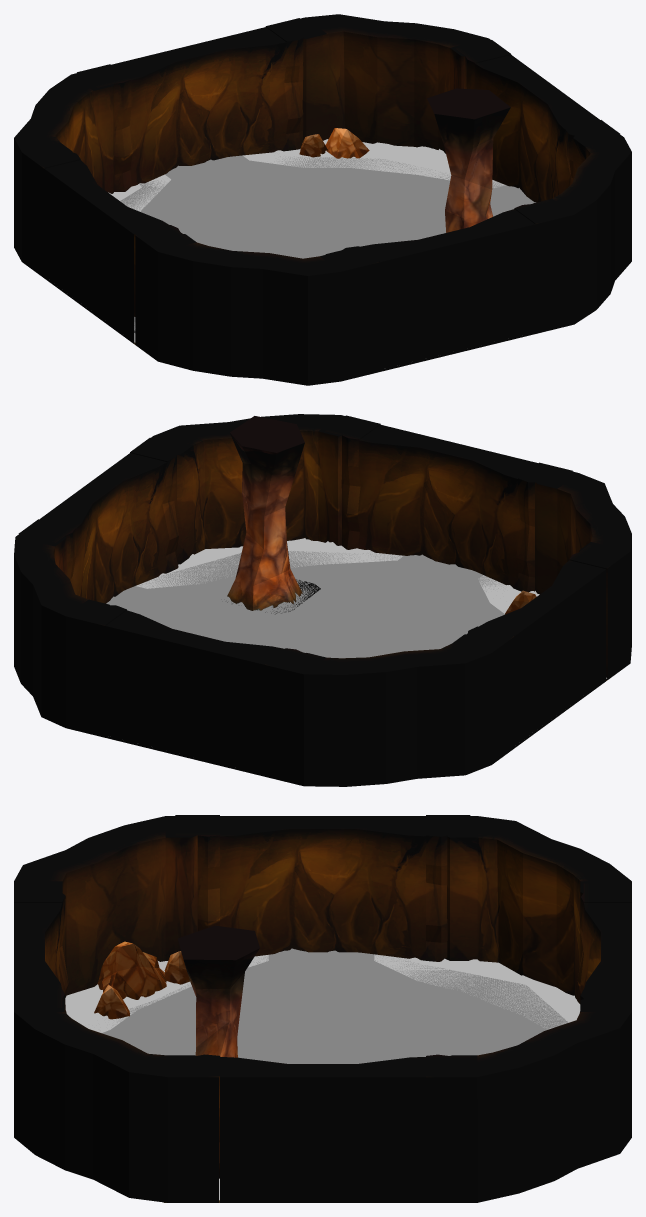
The model's file is Dungeon_062_StartRoom_001_009.fbx.
3 views of the same model, one above another, from view 1: azimuth 30°, elevation 25°; view 2: azimuth 150°, elevation 25°; view 3: azimuth 270°, elevation 25° (orthographic). The views are drawn at different scales.
Visible parts, largest first — view 1: Dun_062_StartRoom_001_wall, Dun_062_Door_002 (×4), Dun_062_StartRoom_002_Nav, Dungeon_062_Object_04_Pillar, Dun_062_StartRoom_001_shadow, Dun_062_Object_100; view 2: Dun_062_Door_002 (×4), Dun_062_StartRoom_001_wall, Dun_062_StartRoom_002_Nav, Dungeon_062_Object_04_Pillar, Dun_062_StartRoom_001_shadow; view 3: Dun_062_StartRoom_001_wall, Dun_062_Door_002 (×4), Dun_062_StartRoom_002_Nav, Dun_062_StartRoom_001_shadow, Dungeon_062_Object_04_Pillar, Dun_062_Object_100.
Part boxes in pixels (box(x1,y1,x2,y2)): Dun_062_StartRoom_001_wall: box(14, 14, 631, 385); Dun_062_Door_002 (×4): box(25, 18, 619, 371); Dun_062_StartRoom_002_Nav: box(120, 155, 535, 329); Dungeon_062_Object_04_Pillar: box(427, 88, 510, 232); Dun_062_StartRoom_001_shadow: box(108, 139, 505, 342); Dun_062_Object_100: box(299, 128, 369, 158); Dun_062_Door_002 (×4): box(18, 415, 625, 776); Dun_062_StartRoom_001_wall: box(14, 414, 631, 786); Dun_062_StartRoom_002_Nav: box(106, 551, 508, 658); Dungeon_062_Object_04_Pillar: box(227, 416, 304, 610); Dun_062_StartRoom_001_shadow: box(136, 538, 606, 678); Dun_062_StartRoom_001_wall: box(14, 816, 631, 1202); Dun_062_Door_002 (×4): box(14, 815, 631, 1202); Dun_062_StartRoom_002_Nav: box(100, 948, 568, 1063); Dun_062_StartRoom_001_shadow: box(65, 954, 580, 1200); Dungeon_062_Object_04_Pillar: box(177, 925, 259, 1057); Dun_062_Object_100: box(94, 941, 189, 1019).
Bounding box in the file's own units: 9.04 × 2.96 × 9.
